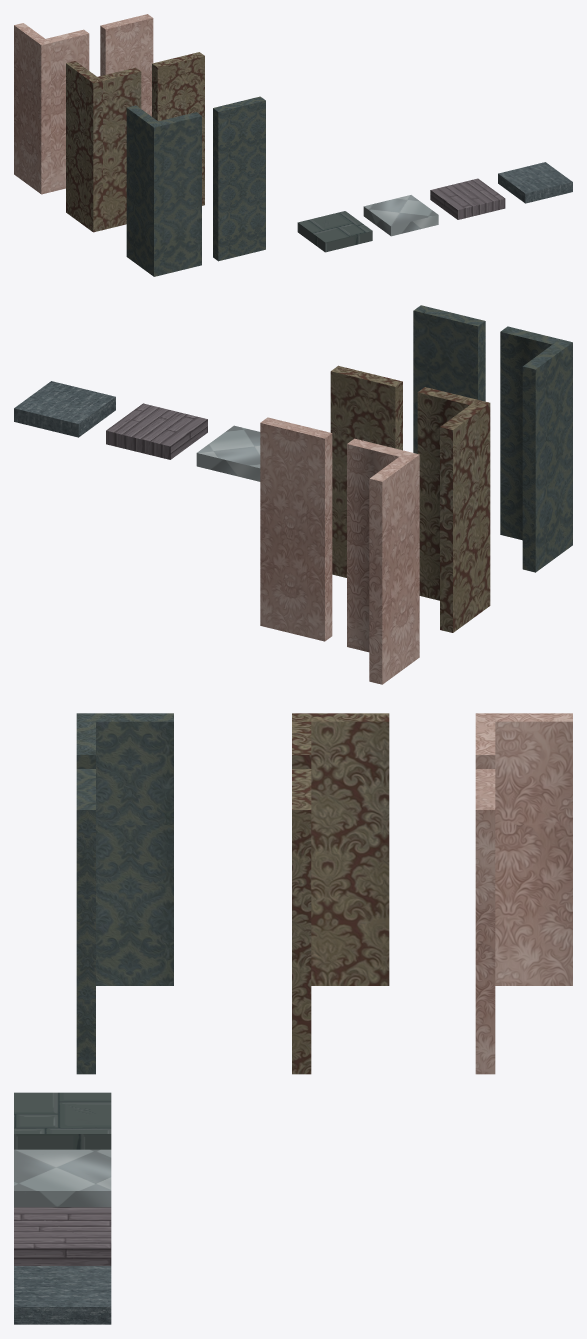
Rendered from MOD_Murs_Sols2.FBX.
3 renders of one model, top to bottom at view 1: azimuth 30°, elevation 25°; view 2: azimuth 150°, elevation 25°; view 3: azimuth 270°, elevation 25°, orthographic. The views are drawn at different scales.
Visible parts, largest first — view 1: Mur_01_Angle, Mur_02_Angle, Mur_03_Angle, Mur_01_Plat, Mur_02_Plat, Mur_03_Plat, Dalle_Pierre, Dalle_Bois, Dalle_Lino, Dalle_Moquette; view 2: Mur_01_Angle, Mur_03_Angle, Mur_02_Angle, Mur_03_Plat, Mur_02_Plat, Mur_01_Plat, Dalle_Moquette, Dalle_Bois, Dalle_Lino; view 3: Mur_02_Angle, Mur_01_Angle, Mur_03_Angle, Mur_03_Plat, Mur_01_Plat, Mur_02_Plat, Dalle_Bois, Dalle_Moquette, Dalle_Lino, Dalle_Pierre.
Part boxes in pixels (x1=…): Mur_01_Angle: x1=126, y1=105, x2=201, y2=276; Mur_02_Angle: x1=66, y1=61, x2=141, y2=232; Mur_03_Angle: x1=14, y1=23, x2=89, y2=194; Mur_01_Plat: x1=213, y1=96, x2=265, y2=261; Mur_02_Plat: x1=152, y1=52, x2=204, y2=205; Mur_03_Plat: x1=100, y1=14, x2=153, y2=116; Dalle_Pierre: x1=297, y1=211, x2=372, y2=252; Dalle_Bois: x1=430, y1=178, x2=505, y2=219; Dalle_Lino: x1=363, y1=195, x2=438, y2=236; Dalle_Moquette: x1=498, y1=162, x2=572, y2=203; Mur_01_Angle: x1=500, y1=326, x2=572, y2=572; Mur_03_Angle: x1=347, y1=438, x2=419, y2=684; Mur_02_Angle: x1=417, y1=387, x2=490, y2=632; Mur_03_Plat: x1=260, y1=417, x2=332, y2=641; Mur_02_Plat: x1=330, y1=365, x2=402, y2=577; Mur_01_Plat: x1=413, y1=305, x2=485, y2=453; Dalle_Moquette: x1=14, y1=381, x2=115, y2=437; Dalle_Bois: x1=106, y1=403, x2=207, y2=459; Dalle_Lino: x1=196, y1=425, x2=260, y2=481; Mur_02_Angle: x1=292, y1=713, x2=389, y2=985; Mur_01_Angle: x1=76, y1=713, x2=173, y2=985; Mur_03_Angle: x1=475, y1=713, x2=572, y2=985; Mur_03_Plat: x1=475, y1=769, x2=495, y2=1074; Mur_01_Plat: x1=76, y1=769, x2=95, y2=1074; Mur_02_Plat: x1=292, y1=769, x2=311, y2=1074; Dalle_Bois: x1=14, y1=1207, x2=111, y2=1265; Dalle_Moquette: x1=14, y1=1266, x2=111, y2=1324; Dalle_Lino: x1=14, y1=1149, x2=111, y2=1207; Dalle_Pierre: x1=14, y1=1092, x2=111, y2=1149.
Bounding box in the file's own units: 844 × 300 × 575.
